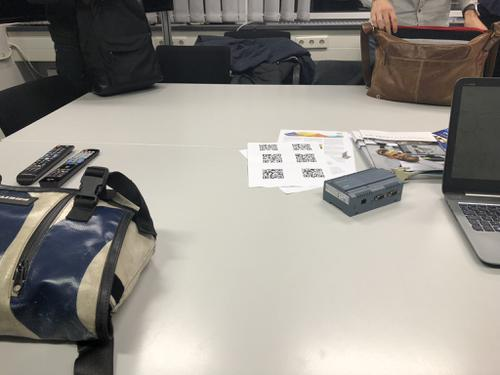device: (323, 168, 404, 218)
